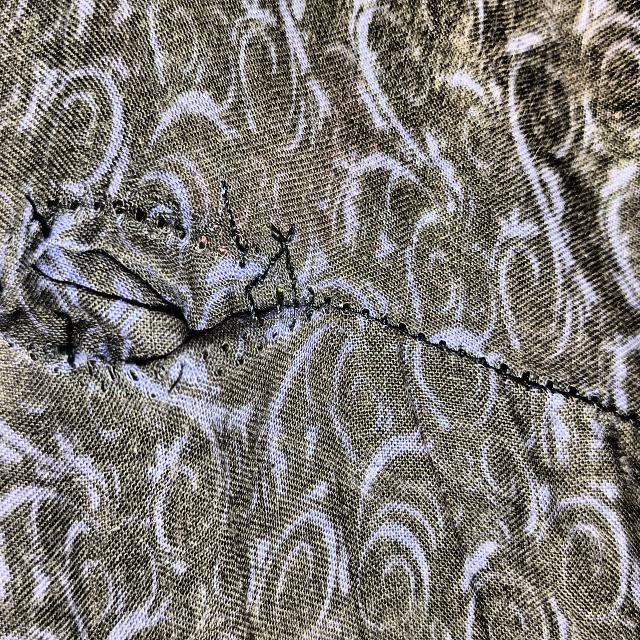seam: (5, 181, 339, 425)
